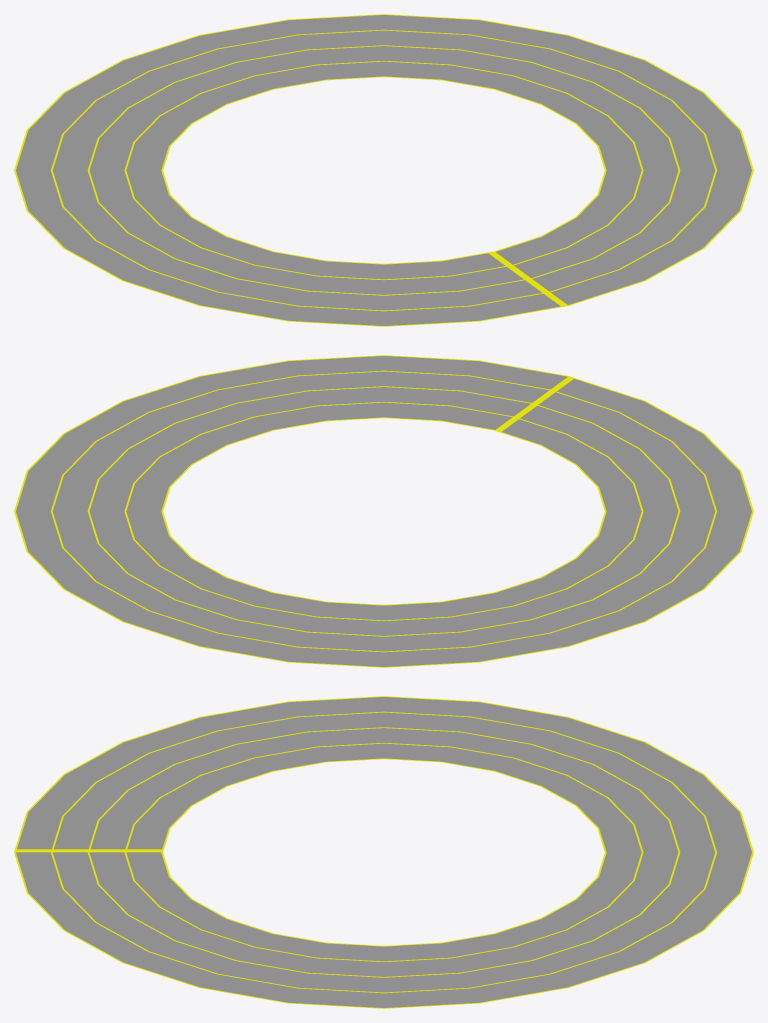
Rendered from track.gltf.
The picture shows the model from 3 angles, top to bottom: view 1: azimuth 30°, elevation 25°; view 2: azimuth 150°, elevation 25°; view 3: azimuth 270°, elevation 25°; orthographic projection.
Parts seen in each view (by area): view 1: SketchUp, SketchUp.003, SketchUp.001, SketchUp.002, SketchUp.004; view 2: SketchUp, SketchUp.003, SketchUp.001, SketchUp.002, SketchUp.004; view 3: SketchUp, SketchUp.003, SketchUp.001, SketchUp.002, SketchUp.004.
Part boxes in pixels (bbox=[...]): SketchUp: bbox=[16, 15, 751, 325]; SketchUp.003: bbox=[52, 30, 715, 310]; SketchUp.001: bbox=[89, 46, 678, 294]; SketchUp.002: bbox=[126, 61, 641, 279]; SketchUp.004: bbox=[14, 14, 753, 326]; SketchUp: bbox=[16, 356, 751, 666]; SketchUp.003: bbox=[52, 371, 715, 651]; SketchUp.001: bbox=[89, 387, 678, 635]; SketchUp.002: bbox=[126, 402, 641, 620]; SketchUp.004: bbox=[14, 355, 753, 667]; SketchUp: bbox=[16, 697, 751, 1007]; SketchUp.003: bbox=[52, 712, 715, 992]; SketchUp.001: bbox=[89, 728, 678, 976]; SketchUp.002: bbox=[126, 743, 641, 961]; SketchUp.004: bbox=[14, 696, 753, 1008].
Bounding box in the file's own units: 10.05 × 0 × 10.05.
